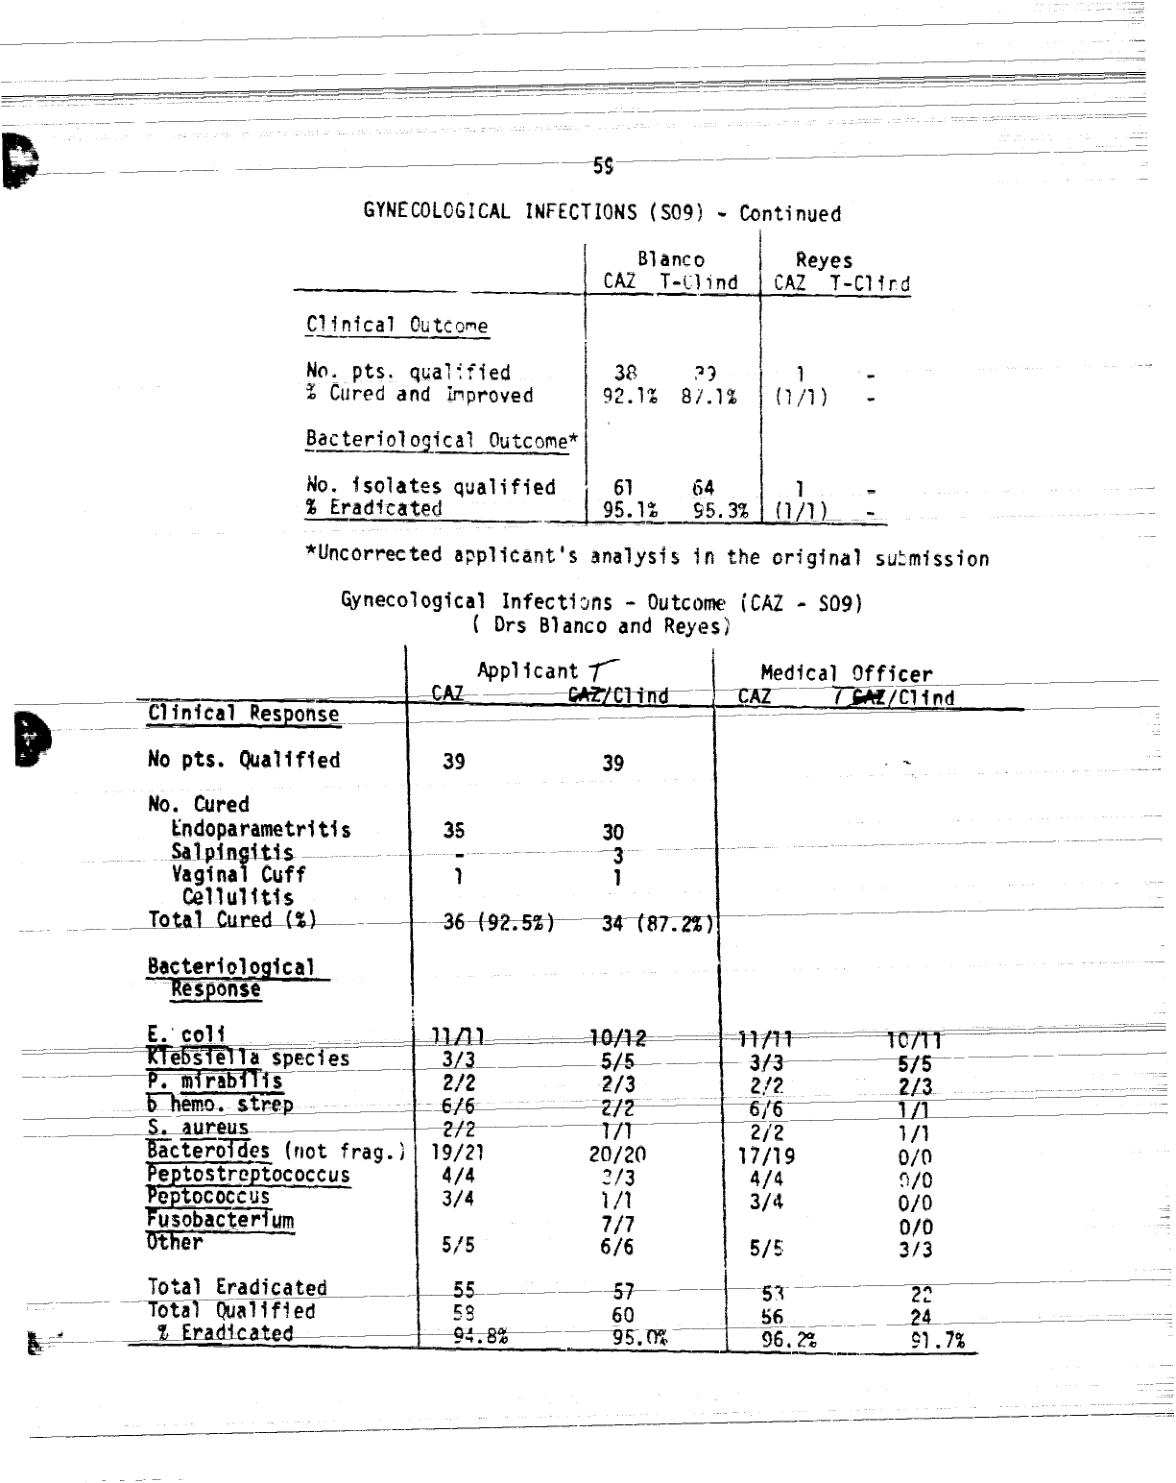partial_lined_merged_cells: (124, 642, 1026, 1359), (292, 241, 917, 530)
